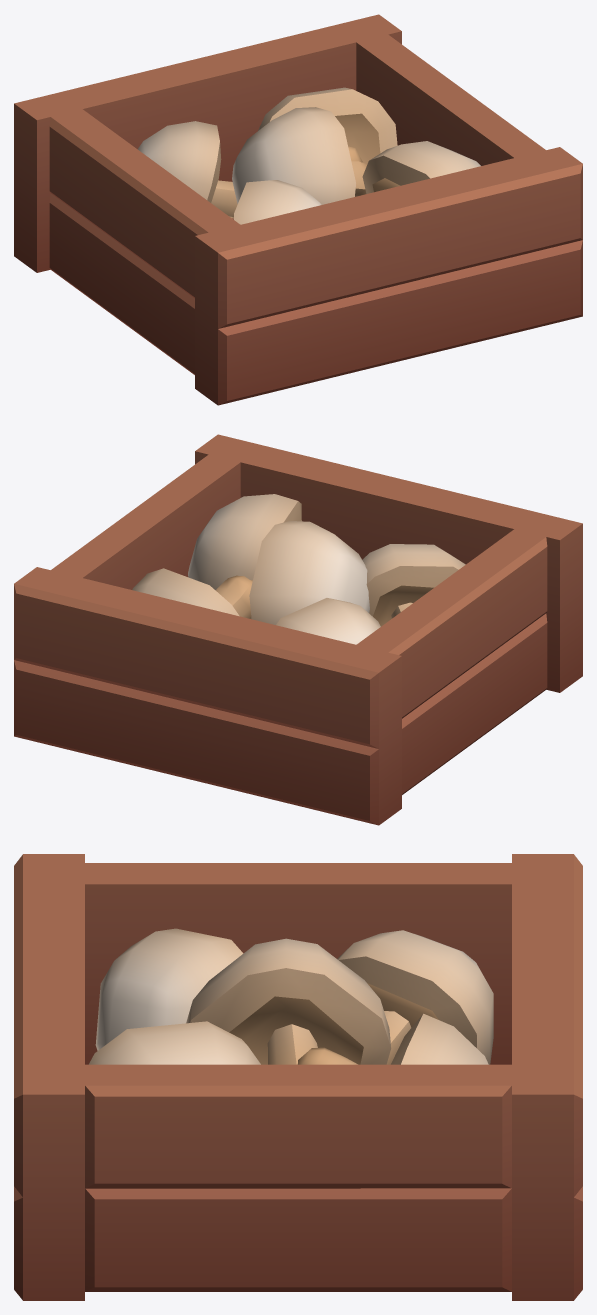
Rendered from crate_mushrooms.obj.
3 views of the same model, one above another, from view 1: azimuth 30°, elevation 25°; view 2: azimuth 150°, elevation 25°; view 3: azimuth 270°, elevation 25° (orthographic). The views are drawn at different scales.
Parts seen in each view (by area): view 1: crate_mushrooms_Cube.442; view 2: crate_mushrooms_Cube.442; view 3: crate_mushrooms_Cube.442.
Boxes of the visible parts, x1=… form: crate_mushrooms_Cube.442: x1=14, y1=14, x2=582, y2=405; crate_mushrooms_Cube.442: x1=14, y1=434, x2=582, y2=825; crate_mushrooms_Cube.442: x1=14, y1=854, x2=582, y2=1300.
Bounding box in the file's own units: 2 × 0.9179 × 2.
1 material, 1 textured.
